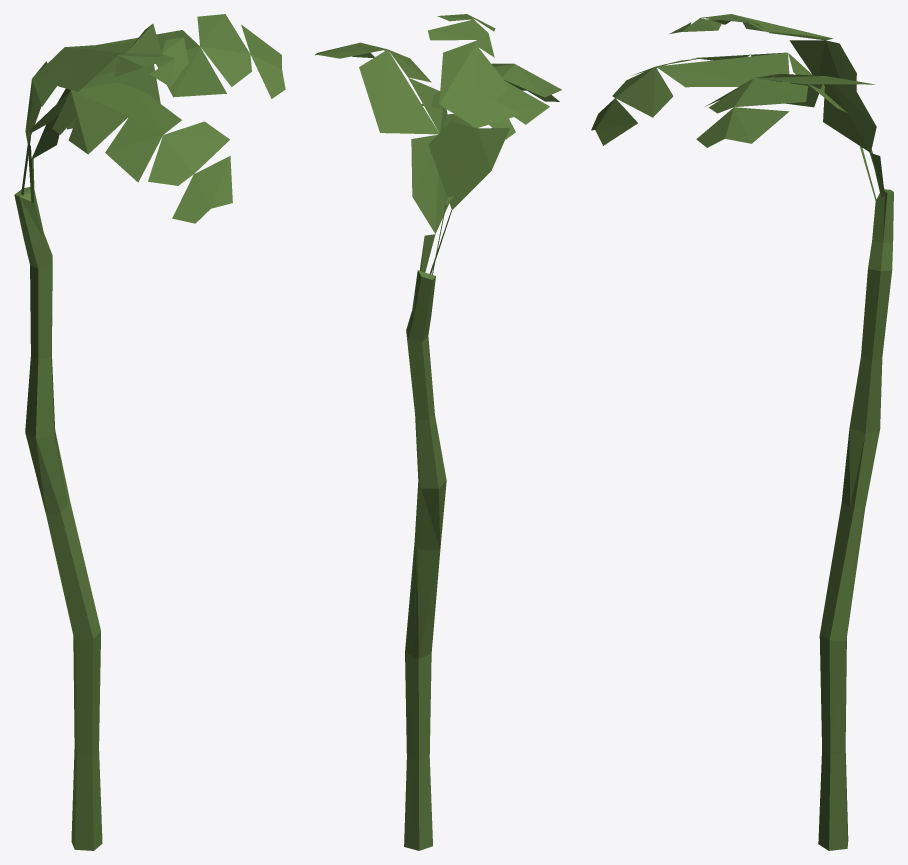
File: Vegetation_Tree_Bamboo_03.fbx
3 renders of one model, left to right at view 1: azimuth 30°, elevation 25°; view 2: azimuth 150°, elevation 25°; view 3: azimuth 270°, elevation 25°, orthographic. The views are drawn at different scales.
Parts seen in each view (by area): view 1: Vegetation_Tree_Bamboo_03; view 2: Vegetation_Tree_Bamboo_03; view 3: Vegetation_Tree_Bamboo_03.
Part boxes in pixels (bbox=[...]): Vegetation_Tree_Bamboo_03: bbox=[14, 14, 285, 850]; Vegetation_Tree_Bamboo_03: bbox=[315, 14, 561, 850]; Vegetation_Tree_Bamboo_03: bbox=[591, 14, 893, 850].
Size of the model in its own units: 2148 by 7451 by 2452.
